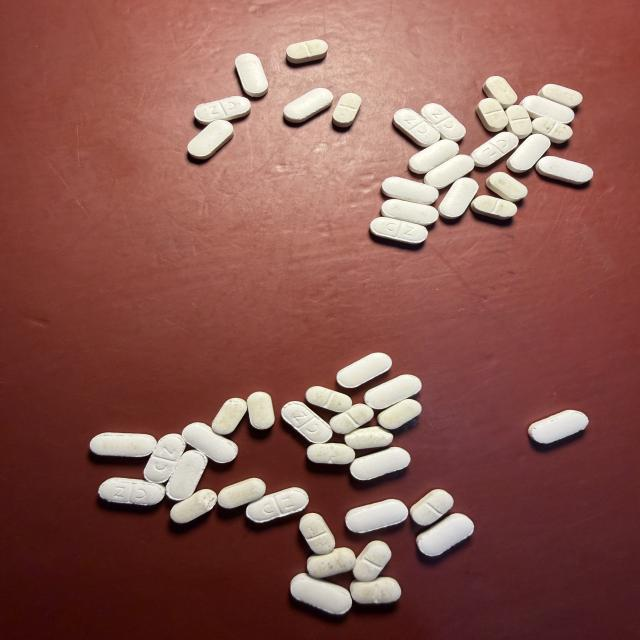pill: (290, 574, 352, 615), (417, 514, 473, 556), (183, 423, 238, 463), (345, 499, 408, 533), (246, 488, 308, 522), (282, 401, 332, 443), (167, 450, 207, 500), (350, 447, 410, 480), (144, 434, 185, 482), (529, 410, 588, 443), (365, 375, 421, 409), (337, 353, 391, 388), (393, 109, 440, 147), (99, 478, 165, 505), (188, 120, 233, 159), (284, 88, 333, 123), (424, 155, 474, 189), (471, 132, 519, 167), (409, 140, 459, 173), (438, 178, 478, 219), (507, 134, 550, 172), (421, 104, 465, 141), (536, 156, 593, 184), (170, 489, 216, 523), (410, 490, 453, 526), (370, 217, 427, 244), (90, 433, 156, 456), (382, 177, 438, 204), (218, 478, 266, 509), (195, 97, 250, 124), (381, 199, 438, 225), (354, 541, 391, 581), (307, 548, 356, 578), (520, 96, 574, 123), (300, 513, 335, 554), (235, 54, 268, 97), (350, 577, 401, 604), (378, 399, 421, 429), (212, 398, 246, 435), (330, 404, 373, 433), (486, 172, 527, 202), (306, 386, 351, 412), (471, 195, 517, 219), (345, 426, 393, 449), (476, 98, 508, 132), (483, 76, 517, 108), (538, 84, 582, 108), (532, 117, 572, 143), (247, 392, 274, 429), (286, 40, 328, 63), (307, 444, 355, 464), (333, 93, 361, 127), (506, 105, 532, 139)
